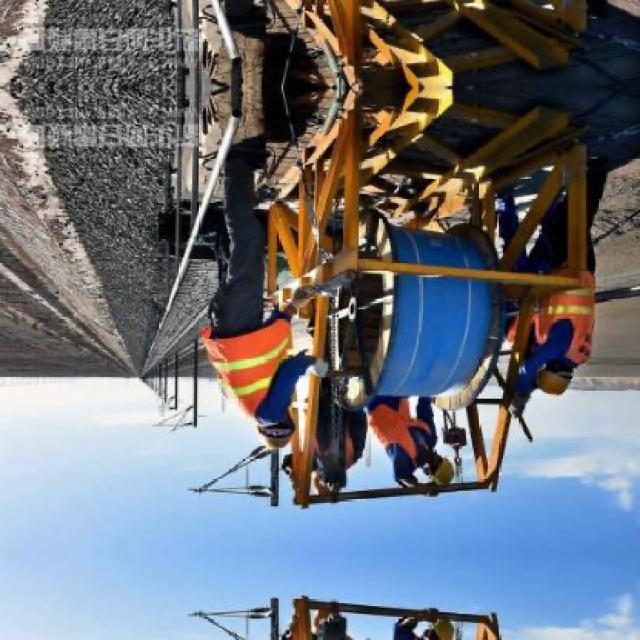con casco: (235, 400, 318, 464), (399, 438, 476, 505), (477, 356, 566, 401), (301, 462, 374, 509)
